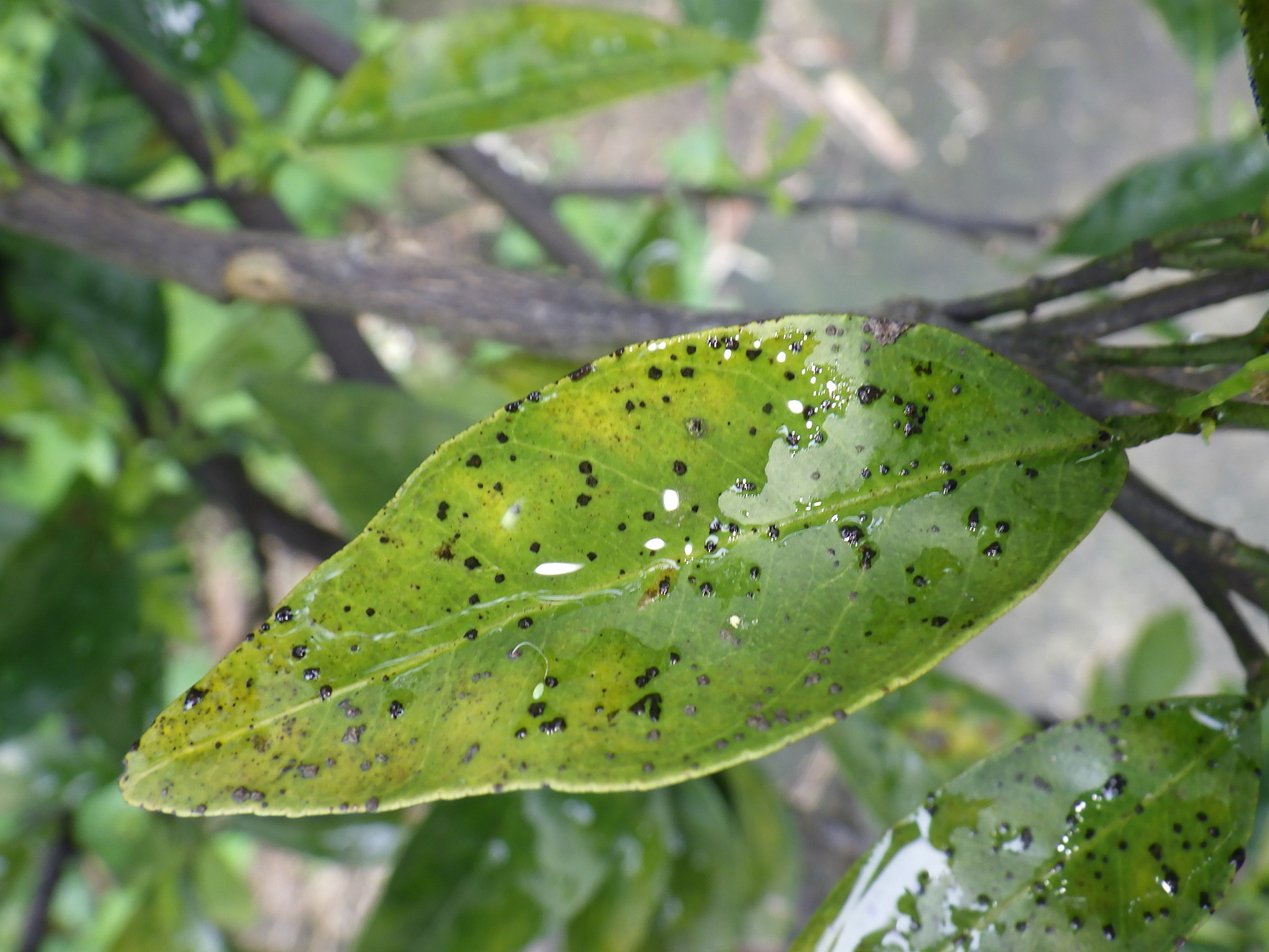Oily_Spot: (123, 316, 1126, 814)
